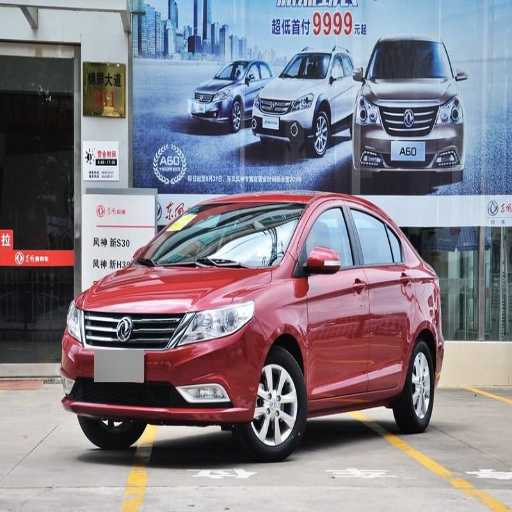back_left_door: (349, 201, 414, 391)
front_bumper: (63, 310, 266, 425), (355, 95, 462, 169)
front_glass: (136, 206, 303, 268), (373, 44, 445, 77)
front_left_door: (297, 200, 369, 398)
